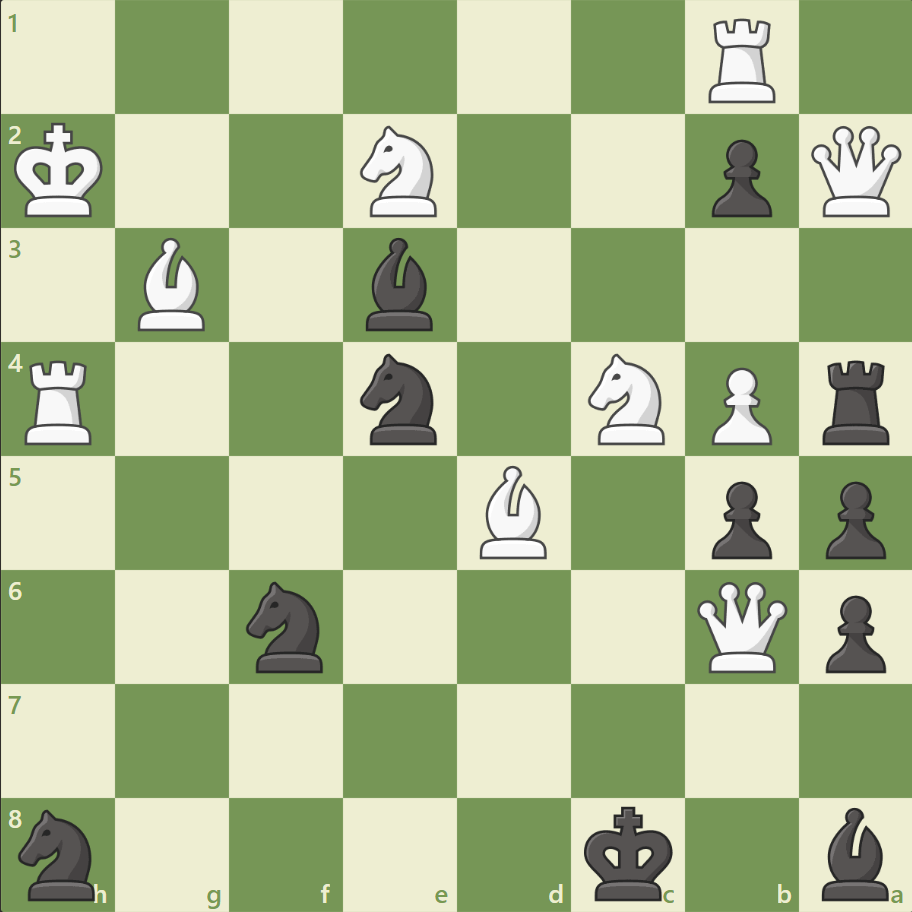B: (471, 460, 555, 563), (131, 233, 215, 336)
K: (11, 117, 111, 225)
N: (351, 121, 449, 223), (579, 348, 676, 450)
P: (701, 359, 776, 450)
Q: (691, 576, 790, 676), (805, 122, 904, 222)
R: (19, 352, 102, 449), (700, 12, 783, 109)
b: (812, 801, 896, 904), (358, 233, 442, 336)
k: (579, 798, 679, 906)
n: (351, 348, 449, 450), (11, 802, 108, 904), (238, 575, 335, 677)
p: (701, 473, 776, 564), (701, 132, 776, 223), (815, 586, 889, 677), (815, 473, 889, 564)
r: (814, 352, 897, 449)
